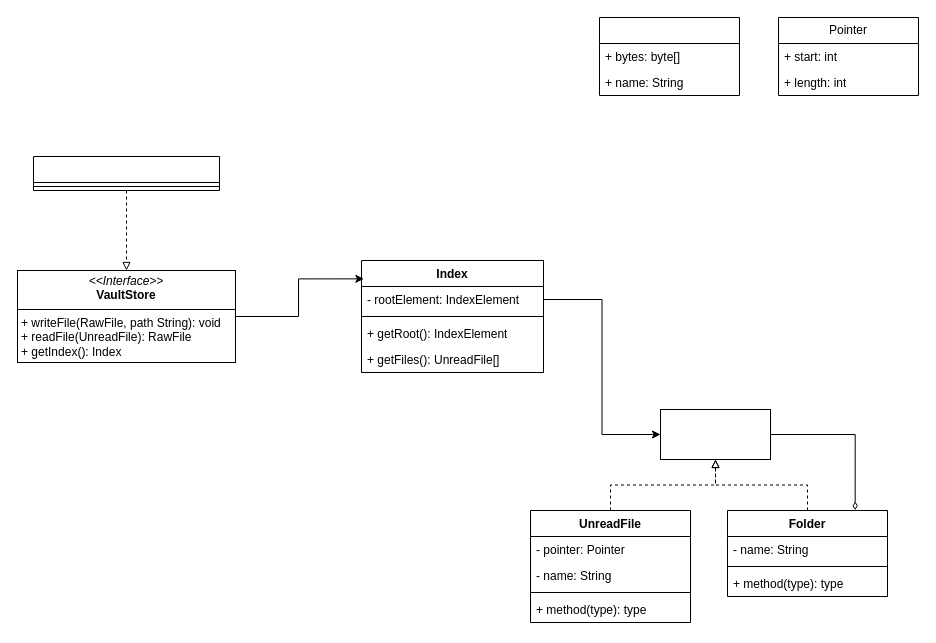
Image size: 936x643. Some labels were removed from this diagram. Here are the shapes that lost their labels. From the top down, the box of each, then its label:
(598, 16, 740, 96): RawFile
(32, 156, 220, 190): EncryptedFileVaultStore
(660, 408, 770, 460): «interface» IndexElement
